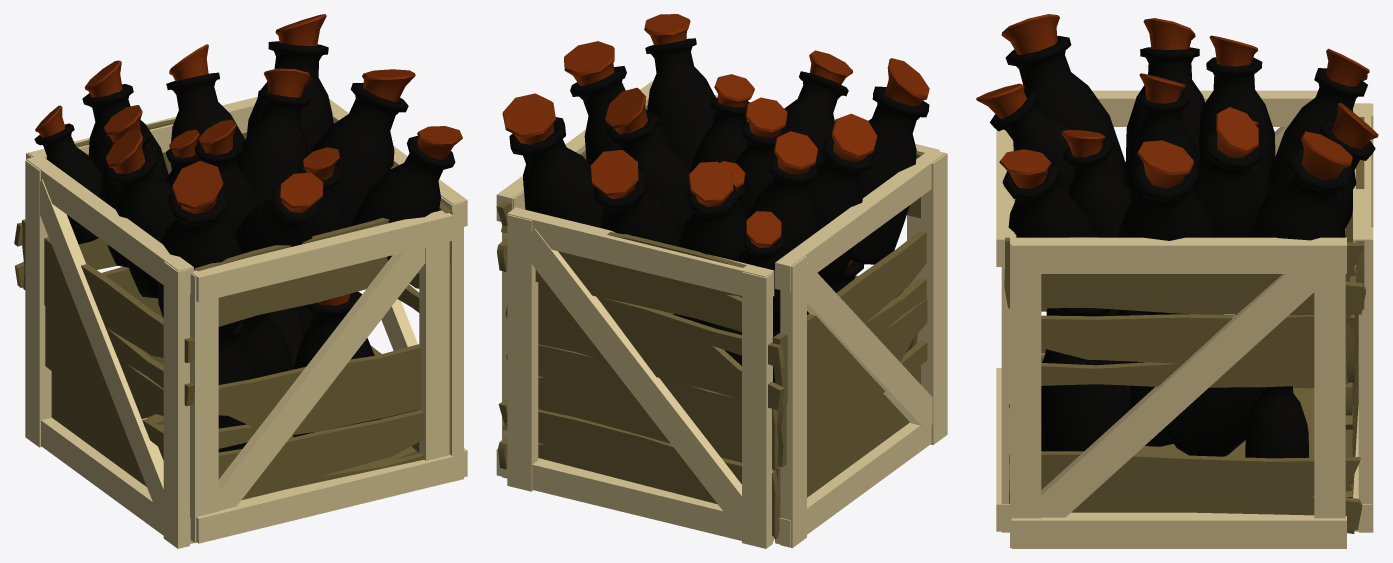
File: SM_Crate.FBX
3 renders of one model, left to right at view 1: azimuth 30°, elevation 25°; view 2: azimuth 150°, elevation 25°; view 3: azimuth 270°, elevation 25°, orthographic. The views are drawn at different scales.
Visible parts, largest first — view 1: SM_Crate; view 2: SM_Crate; view 3: SM_Crate.
Part boxes in pixels (<box>): SM_Crate: <box>14,14,467,548</box>; SM_Crate: <box>496,14,947,548</box>; SM_Crate: <box>976,14,1378,548</box>.
Bounding box in the file's own units: 85.32 × 98.09 × 88.7.
